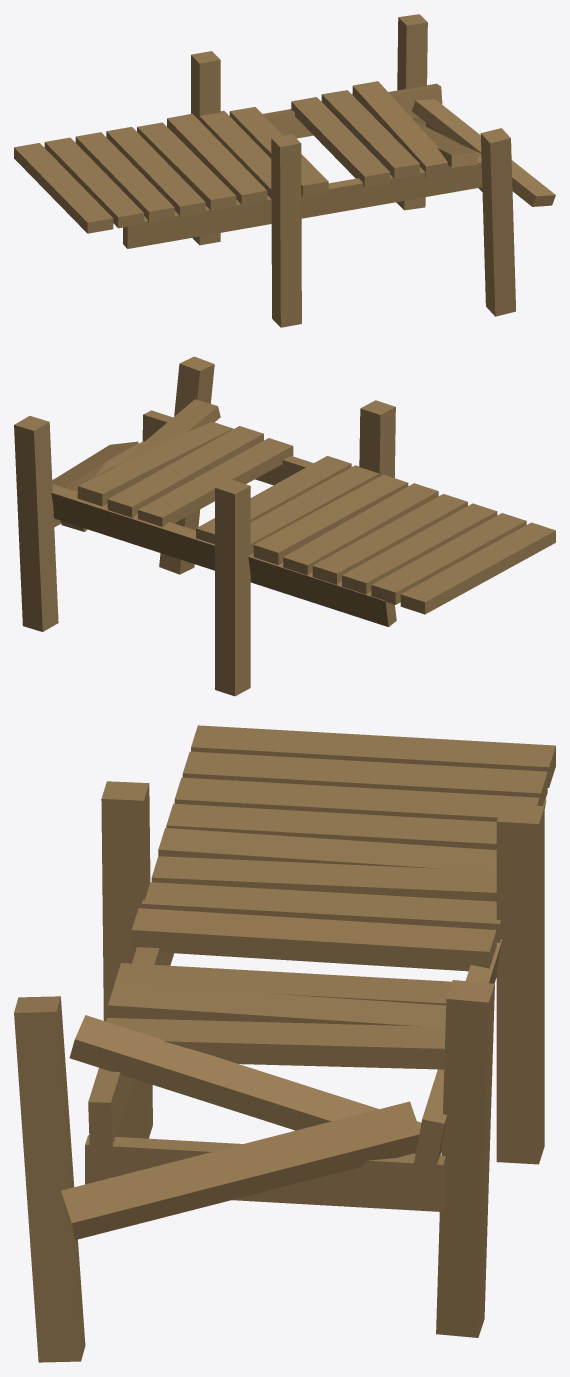
Rendered from dock.fbx.
3 renders of one model, top to bottom at view 1: azimuth 30°, elevation 25°; view 2: azimuth 150°, elevation 25°; view 3: azimuth 270°, elevation 25°, orthographic. The views are drawn at different scales.
Visible parts, largest first — view 1: Cube, Cube.006, Cube.004, Cube.008, Cube.017, Cube.019, Cube.013, Cube.018, Cube.009, Cube.011, Cube.010, Cube.012 (+7 smaller); view 2: Cube.001, Cube.005, Cube.007, Cube.008, Cube.017, Cube.018, Cube.013, Cube.012, Cube.009, Cube.011, Cube.010, Cube.019 (+7 smaller); view 3: Cube.021, Cube.007, Cube.004, Cube.005, Cube.015, Cube.020, Cube.019, Cube.002, Cube.014, Cube.013, Cube.008, Cube.009 (+8 smaller).
Boxes of the visible parts, x1,y1,x2,y2 form: Cube: [123, 157, 482, 248]; Cube.006: [271, 134, 301, 327]; Cube.004: [480, 128, 515, 316]; Cube.008: [14, 143, 113, 233]; Cube.017: [291, 97, 390, 187]; Cube.019: [352, 81, 451, 177]; Cube.013: [167, 113, 267, 206]; Cube.018: [321, 90, 419, 179]; Cube.009: [44, 137, 143, 228]; Cube.011: [106, 127, 205, 217]; Cube.010: [75, 132, 174, 222]; Cube.012: [137, 122, 236, 210]; Cube.001: [51, 484, 396, 626]; Cube.005: [14, 416, 58, 631]; Cube.007: [215, 479, 250, 696]; Cube.008: [400, 522, 555, 614]; Cube.017: [138, 438, 293, 526]; Cube.018: [107, 426, 263, 517]; Cube.013: [253, 474, 408, 564]; Cube.012: [283, 483, 438, 575]; Cube.009: [371, 513, 526, 604]; Cube.011: [312, 494, 467, 584]; Cube.010: [342, 503, 497, 594]; Cube.019: [77, 421, 233, 506]; Cube.021: [61, 1101, 419, 1239]; Cube.007: [496, 803, 544, 1164]; Cube.004: [14, 996, 85, 1362]; Cube.005: [436, 980, 494, 1337]; Cube.015: [131, 908, 496, 971]; Cube.020: [69, 1015, 421, 1153]; Cube.019: [106, 1018, 445, 1069]; Cube.002: [85, 1135, 445, 1211]; Cube.014: [141, 882, 500, 942]; Cube.013: [151, 856, 496, 901]; Cube.008: [191, 725, 555, 787]; Cube.009: [182, 751, 547, 805].
Size of the model in its own units: 176328 by 79893 by 101675.
